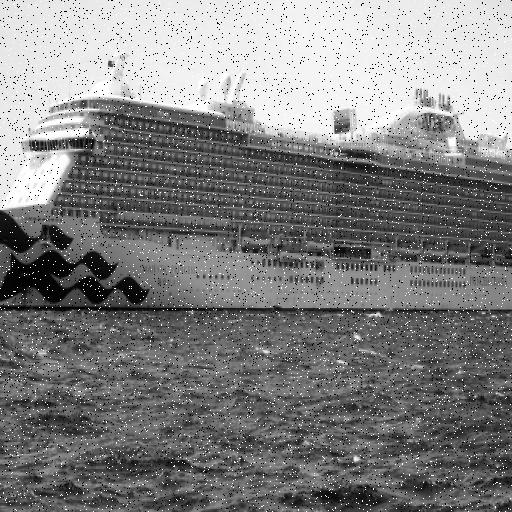cruises: (1, 30, 512, 329)
